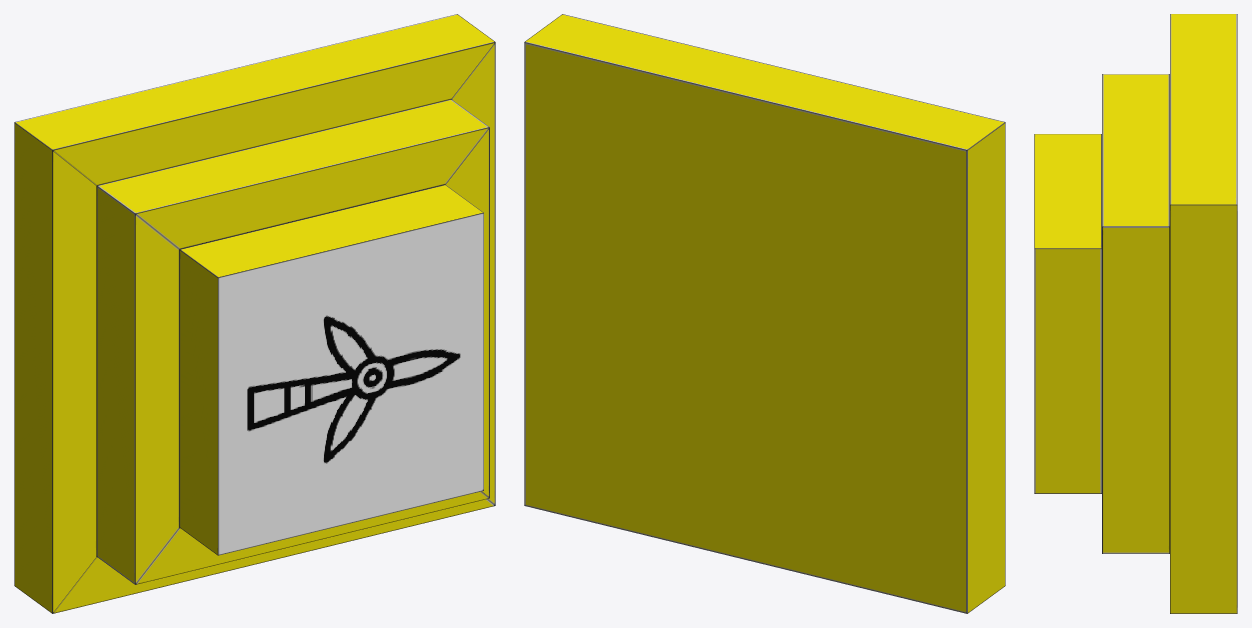
The model's file is RenewableLevel3_rot_2_3.fbx.
3 renders of one model, left to right at view 1: azimuth 30°, elevation 25°; view 2: azimuth 150°, elevation 25°; view 3: azimuth 270°, elevation 25°, orthographic. The views are drawn at different scales.
Visible parts, largest first — view 1: Plane; view 2: Plane; view 3: Plane.
Boxes of the visible parts, left/top/right/bottom form: Plane: left=14, top=14, right=495, bottom=613; Plane: left=524, top=14, right=1005, bottom=613; Plane: left=1034, top=14, right=1237, bottom=613.
Bounding box in the file's own units: 460 × 460 × 207.
Materials: 1 (1 with a texture image).
